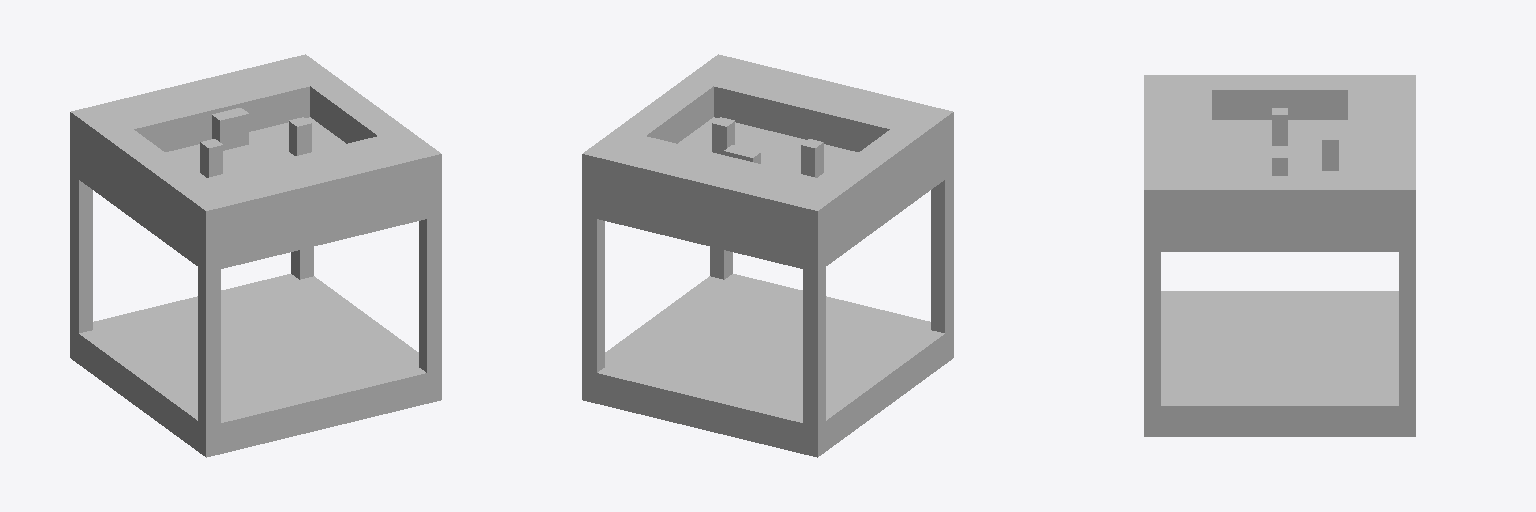
The model's file is panel_cnc.obj.
The picture shows the model from 3 angles: view 1: azimuth 30°, elevation 25°; view 2: azimuth 150°, elevation 25°; view 3: azimuth 270°, elevation 25°; orthographic projection.
Parts seen in each view (by area): view 1: Player_Cube.001, Base_Cube, Frame_Cube.007; view 2: Player_Cube.001, Base_Cube, Frame_Cube.007; view 3: Player_Cube.001, Base_Cube, Frame_Cube.007.
Part boxes in pixels (x1,y1,x2,y2): Player_Cube.001: (70,54,441,272); Base_Cube: (70,274,441,457); Frame_Cube.007: (70,174,441,426); Player_Cube.001: (582,54,953,272); Base_Cube: (582,274,953,457); Frame_Cube.007: (582,174,953,426); Player_Cube.001: (1144,75,1415,251); Base_Cube: (1144,291,1415,436); Frame_Cube.007: (1144,252,1415,405).
Bounding box in the file's own units: 1 × 1 × 1.